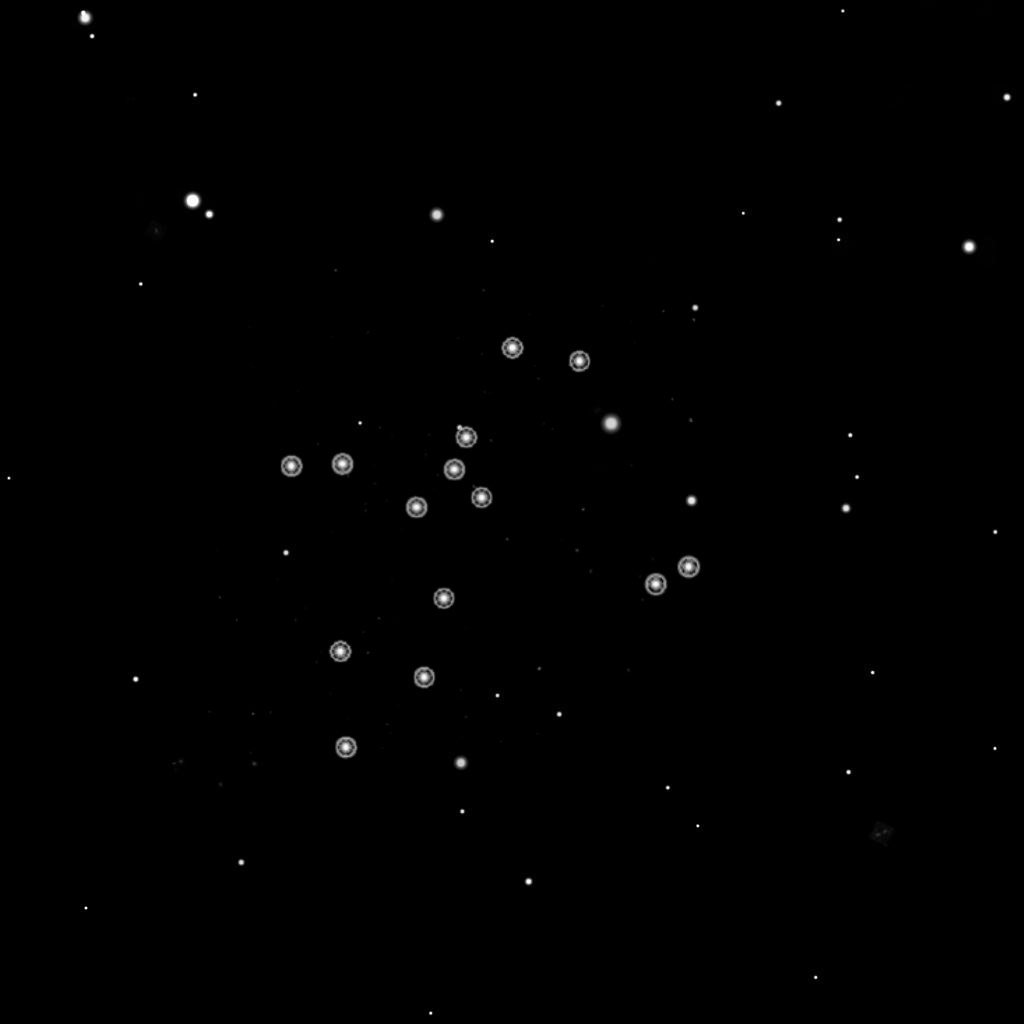canis_major: (397, 331, 593, 528)
